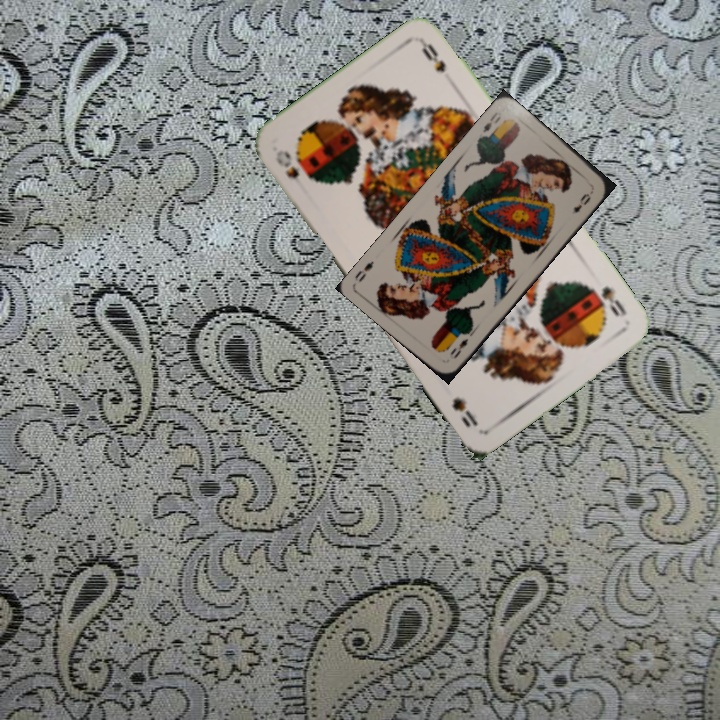EO: (478, 108, 504, 135), (446, 334, 471, 362)
SO: (271, 145, 315, 185), (597, 282, 630, 320)
